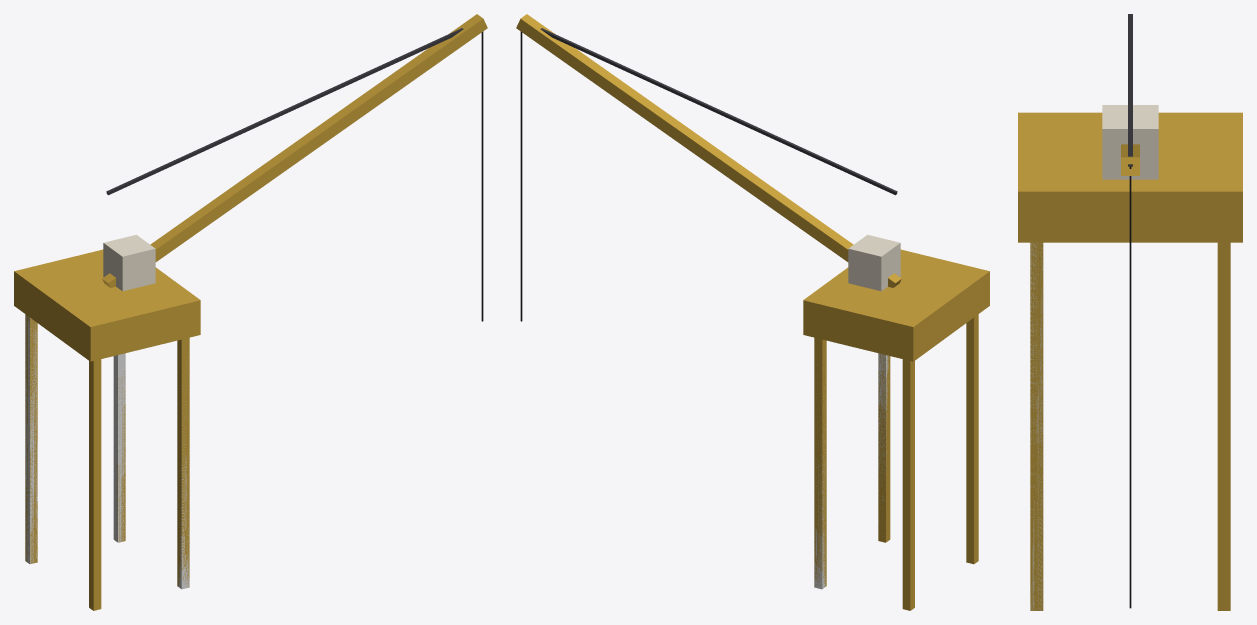
The model's file is theme-port-2.glb.
3 views of the same model, side by side, from view 1: azimuth 30°, elevation 25°; view 2: azimuth 150°, elevation 25°; view 3: azimuth 270°, elevation 25° (orthographic). The views are drawn at different scales.
Visible parts, largest first — view 1: 00_#c9a13a, 02_#c9a13a_noshadow, solid, 01_#e8e0d0, solid.002, 03_#3a3a40_noshadow, solid.003, 04_#16161a_noshadow; view 2: 00_#c9a13a, 02_#c9a13a_noshadow, 01_#e8e0d0, 03_#3a3a40_noshadow, solid.002, 04_#16161a_noshadow, solid.003; view 3: 00_#c9a13a, 01_#e8e0d0, solid.003, 04_#16161a_noshadow, 03_#3a3a40_noshadow, 02_#c9a13a_noshadow.
Boxes of the visible parts, x1,y1,x2,y2 form: 00_#c9a13a: [14, 249, 200, 610]; 02_#c9a13a_noshadow: [102, 14, 487, 287]; solid: [25, 315, 37, 564]; 01_#e8e0d0: [103, 234, 155, 291]; solid.002: [113, 353, 125, 542]; 03_#3a3a40_noshadow: [106, 28, 463, 195]; solid.003: [178, 364, 189, 589]; 04_#16161a_noshadow: [481, 31, 483, 321]; 00_#c9a13a: [803, 249, 989, 610]; 02_#c9a13a_noshadow: [516, 14, 901, 287]; 01_#e8e0d0: [848, 234, 900, 291]; 03_#3a3a40_noshadow: [540, 28, 897, 195]; solid.002: [814, 369, 825, 589]; 04_#16161a_noshadow: [520, 31, 522, 321]; solid.003: [878, 353, 888, 521]; 00_#c9a13a: [1018, 112, 1242, 610]; 01_#e8e0d0: [1102, 105, 1158, 179]; solid.003: [1030, 243, 1042, 610]; 04_#16161a_noshadow: [1129, 166, 1131, 608]; 03_#3a3a40_noshadow: [1128, 14, 1132, 166]; 02_#c9a13a_noshadow: [1121, 144, 1139, 175].
Size of the model in its own units: 39.2 by 40.46 by 12.
